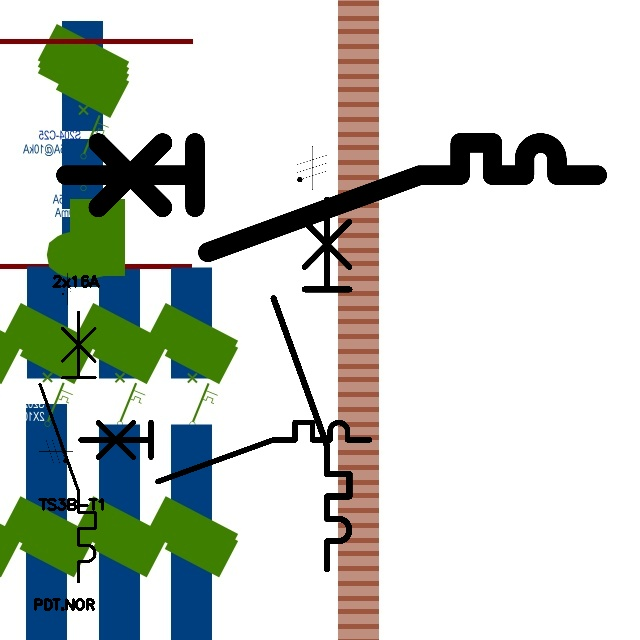interruptor_termomagnetico: (52, 129, 611, 266), (264, 189, 359, 578), (73, 415, 377, 489), (33, 305, 102, 589)
